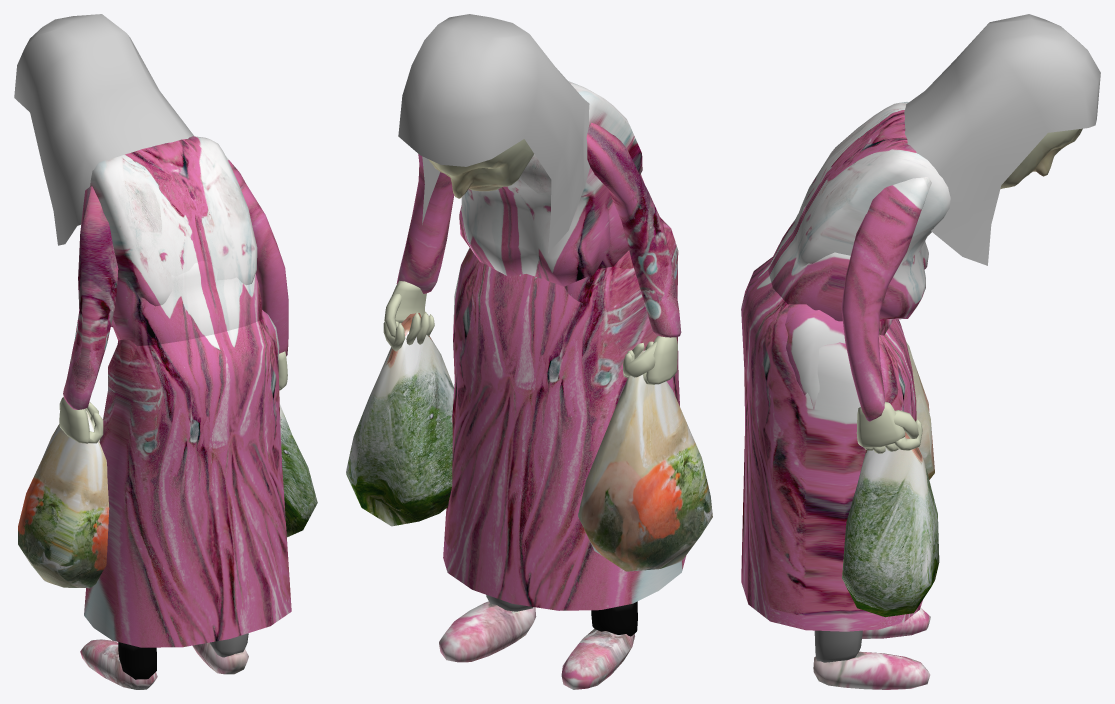
File: SM_Jeanine00.fbx
The picture shows the model from 3 angles, left to right: view 1: azimuth 30°, elevation 25°; view 2: azimuth 150°, elevation 25°; view 3: azimuth 270°, elevation 25°; orthographic projection. The views are drawn at different scales.
Parts seen in each view (by area): view 1: SM_Jeanine00; view 2: SM_Jeanine00; view 3: SM_Jeanine00.
Boxes of the visible parts, <box> form: SM_Jeanine00: <box>14,14,317,689</box>; SM_Jeanine00: <box>346,14,712,689</box>; SM_Jeanine00: <box>741,14,1100,689</box>.
Size of the model in its own units: 96.43 by 193 by 99.81.
